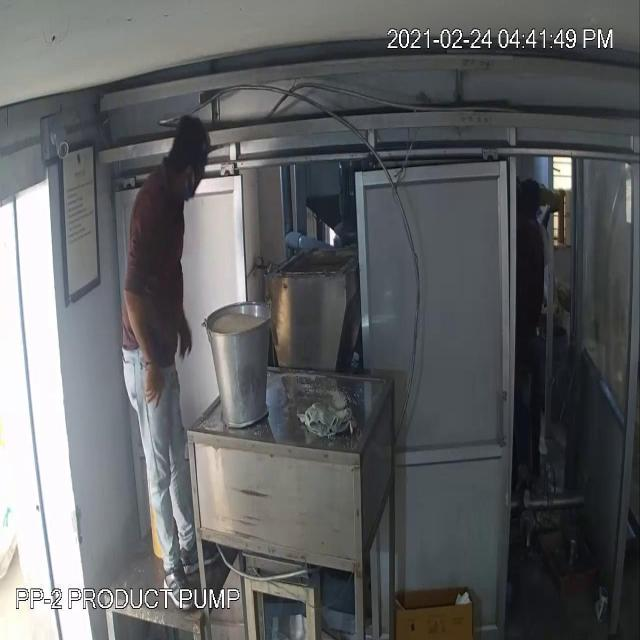no-helmet: (160, 102, 213, 174)
